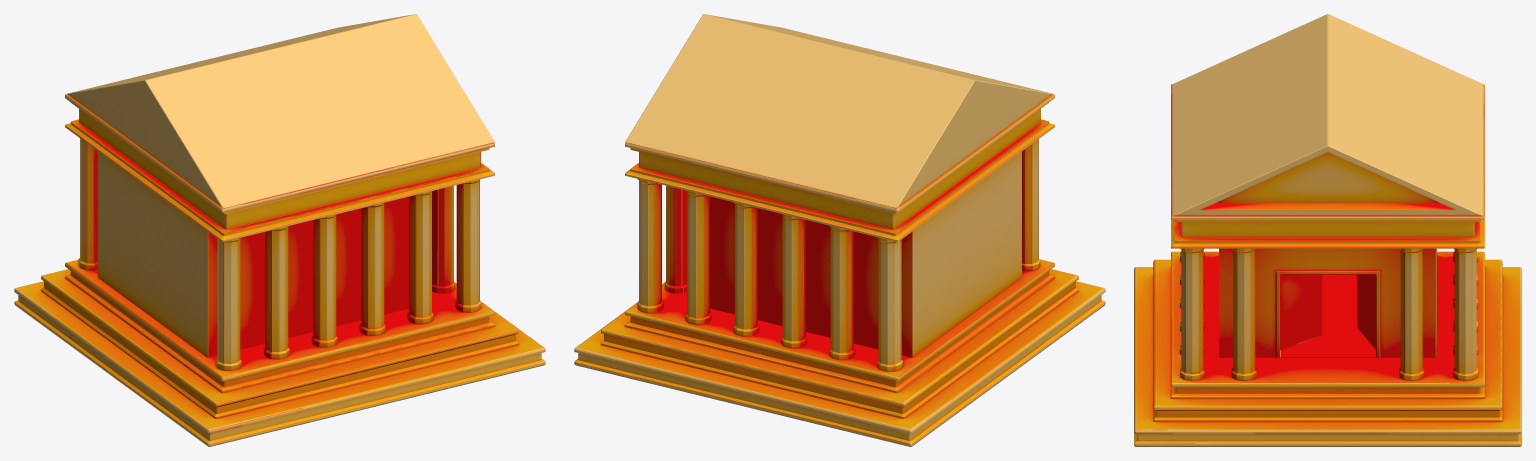
Rendered from museu.gltf.
3 renders of one model, left to right at view 1: azimuth 30°, elevation 25°; view 2: azimuth 150°, elevation 25°; view 3: azimuth 270°, elevation 25°, orthographic.
Parts seen in each view (by area): view 1: Museu; view 2: Museu; view 3: Museu.
Part boxes in pixels (<box>): Museu: <box>14,14,545,446</box>; Museu: <box>574,14,1105,446</box>; Museu: <box>1134,14,1521,446</box>.
Bounding box in the file's own units: 3 × 2.44 × 3.
1 material, 1 textured.
